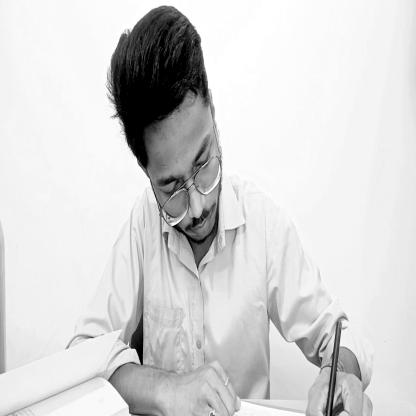Distracted: (113, 7, 226, 249)
